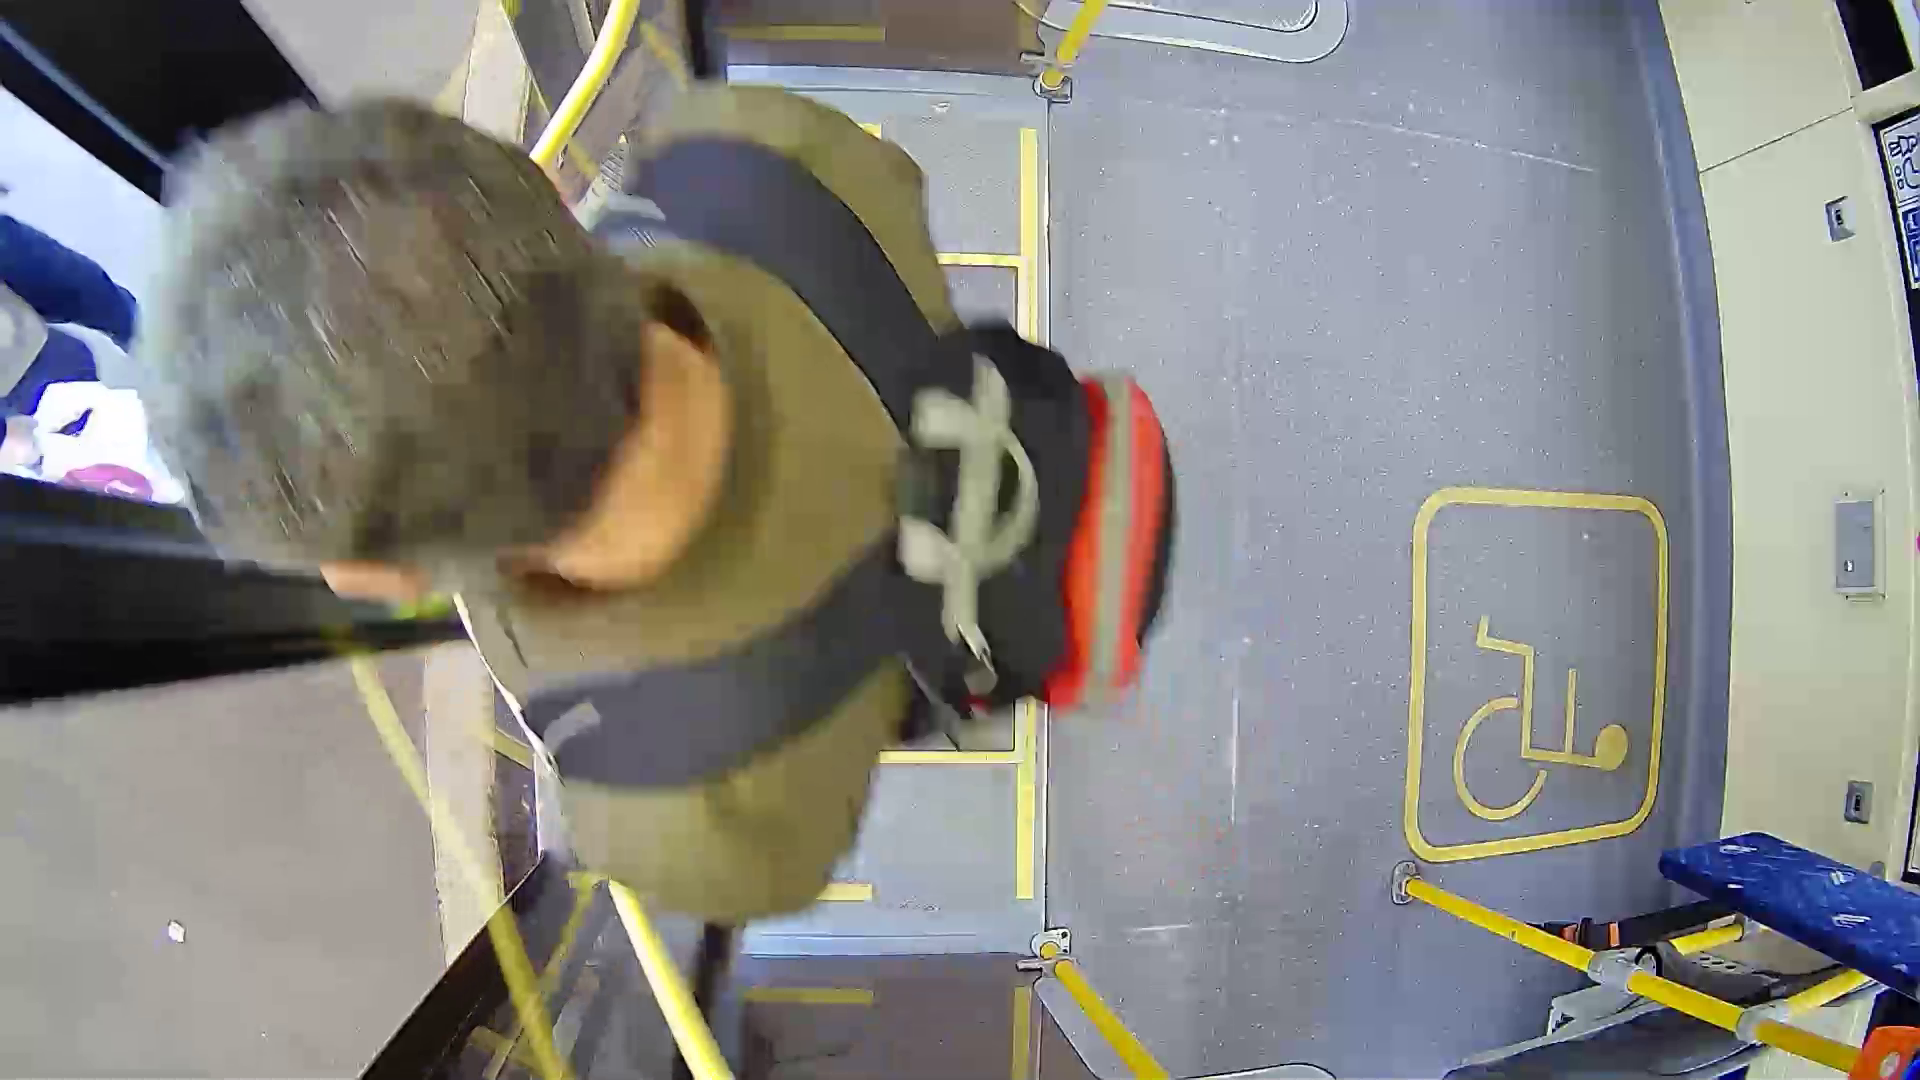person: (164, 64, 1188, 872)
